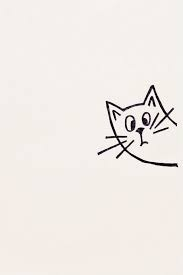cat: (86, 75, 183, 199)
